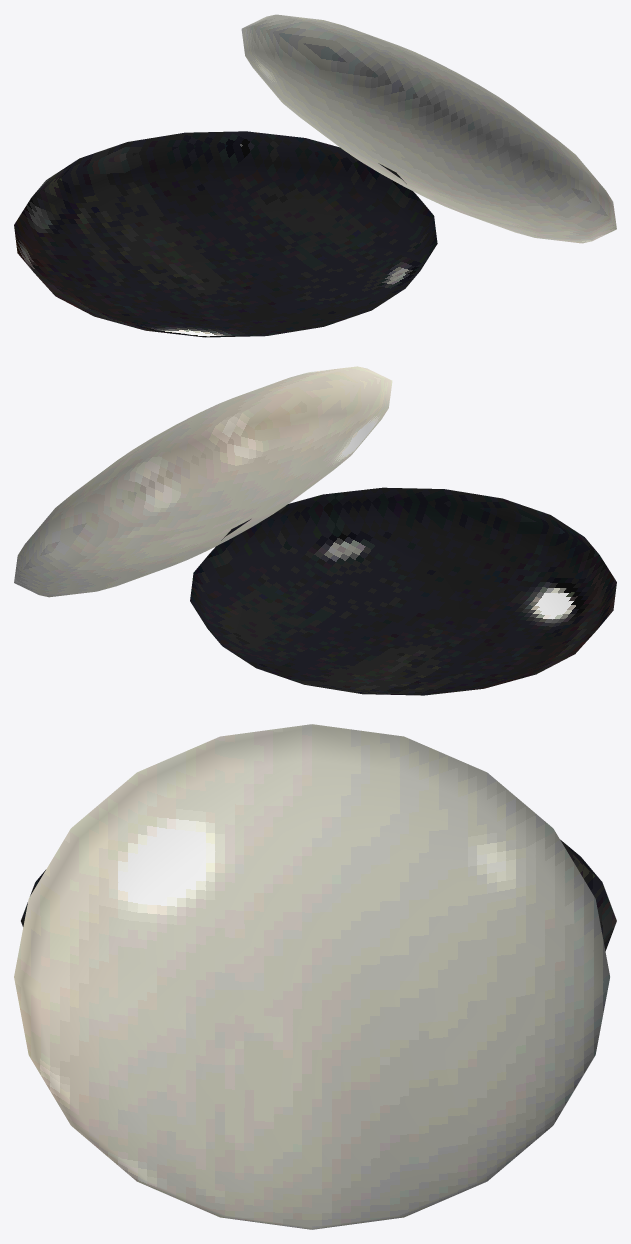
Rendered from ps2_save-icons_aiigo2003.glb.
The picture shows the model from 3 angles, top to bottom: view 1: azimuth 30°, elevation 25°; view 2: azimuth 150°, elevation 25°; view 3: azimuth 270°, elevation 25°; orthographic projection. The views are drawn at different scales.
Parts seen in each view (by area): view 1: Weiqi.ico; view 2: Weiqi.ico; view 3: Weiqi.ico.
Part boxes in pixels (x1=…): Weiqi.ico: x1=14, y1=14, x2=616, y2=337; Weiqi.ico: x1=14, y1=366, x2=616, y2=695; Weiqi.ico: x1=14, y1=724, x2=616, y2=1229.
Size of the model in its own units: 2.97 by 1.2 by 2.05.
Materials: 1 (1 with a texture image).
